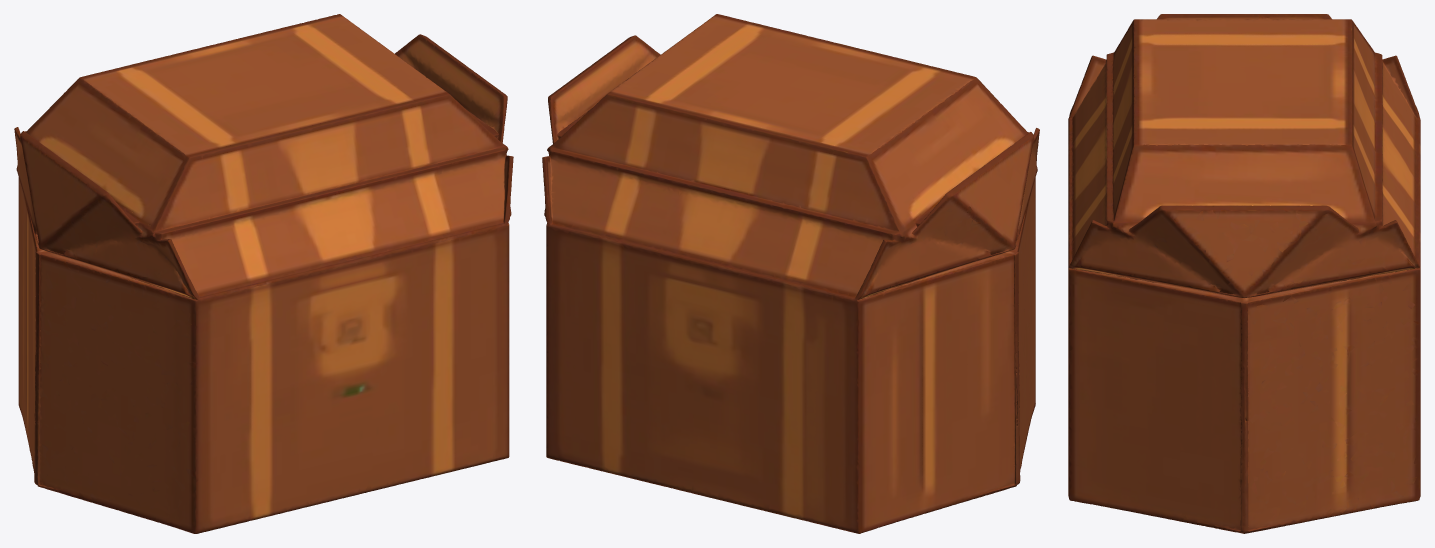
Rendered from chest-illustration-strong-trellis.glb.
The picture shows the model from 3 angles, left to right: view 1: azimuth 30°, elevation 25°; view 2: azimuth 150°, elevation 25°; view 3: azimuth 270°, elevation 25°; orthographic projection.
Parts seen in each view (by area): view 1: world; view 2: world; view 3: world.
Boxes of the visible parts, x1,y1,x2,y2 form: world: (14,14,513,533); world: (542,14,1039,533); world: (1068,14,1420,533).
Size of the model in its own units: 1 by 0.7264 by 0.6762.
Materials: 1 (1 with a texture image).
